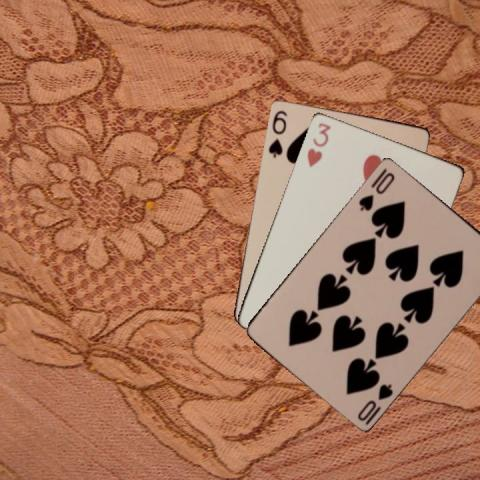10s: (355, 169, 396, 212), (354, 380, 395, 423)
3h: (303, 119, 332, 168)
6s: (264, 107, 288, 159)
